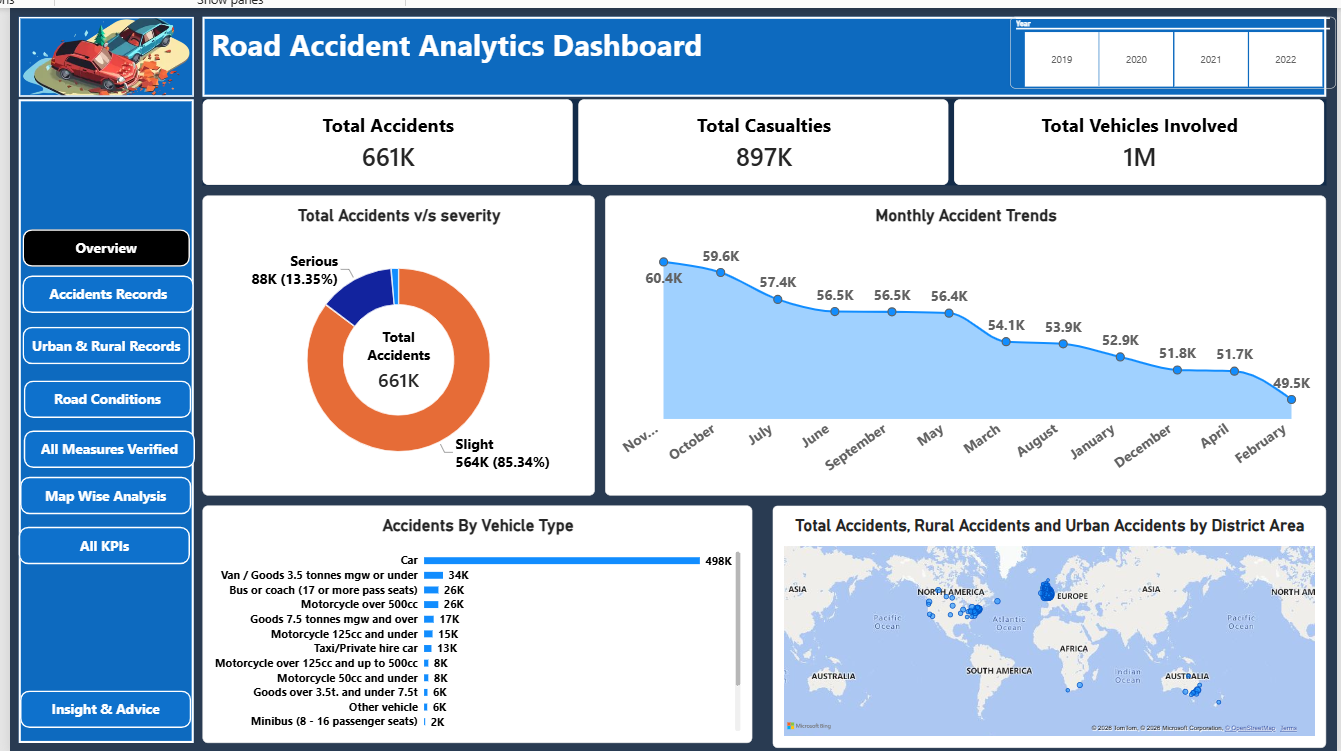

The page's visual inventory and layout, read from the dashboard file:
{"tool":"powerbi","page":{"name":"01_Dashboard","canvas":[1920,1080],"ordinal":0},"visuals":[{"type":"shape","box":[278.7,12.7,1626.9,115.8],"z":0},{"type":"textbox","box":[291.4,23.5,713,92.3],"z":1000},{"type":"cardVisual","fields":{"Data":["accident data.Total Accidents","accident data.Total Casualties","accident data.Total Vehicles Involved"]},"box":[278.7,132.1,1626.9,124.9],"z":2000},{"type":"donutChart","title":"Total Accidents v/s severity","fields":{"Category":["accident data.Accident_Severity"],"Y":["accident data.Total Accidents"]},"box":[278.7,271.4,568.2,434.3],"z":3000},{"type":"areaChart","title":"Monthly Accident Trends","fields":{"Category":["accident data.Month Name"],"Y":["accident data.Total Accidents"]},"box":[861.4,271.4,1044.2,434.3],"z":4000},{"type":"barChart","title":"Accidents By Vehicle Type","fields":{"Category":["accident data.Vehicle_Type"],"Y":["accident data.Total Accidents"]},"box":[278.7,720.2,796.3,343.8],"z":5000},{"type":"map","fields":{"Size":["accident data.Total Accidents"],"Category":["accident data.District Area"]},"box":[1103.9,720.2,801.7,351.1],"z":6000},{"type":"shape","box":[12.7,132.1,253.4,932],"z":7000},{"type":"image","box":[12.7,12.7,253.4,115.8],"z":8000},{"type":"actionButton","box":[18.1,320.3,242.5,54.3],"z":9000},{"type":"actionButton","box":[12.7,751,247.9,54.3],"z":10000},{"type":"actionButton","box":[19.9,539.3,242.5,54.3],"z":11000},{"type":"actionButton","box":[18.1,461.5,242.5,54.3],"z":12000},{"type":"actionButton","box":[18.1,387.3,247.9,54.3],"z":13000},{"type":"actionButton","box":[19.9,611.7,247.9,54.3],"z":14000},{"type":"actionButton","box":[14.5,678.6,247.9,54.3],"z":15000},{"type":"textbox","box":[1583.5,39.8,322.1,76],"z":16000},{"type":"textbox","box":[1744.5,39.8,144.8,61.5],"z":16001},{"type":"actionButton","box":[14.5,988.1,247.9,54.3],"z":16002},{"type":"slicer","fields":{"Values":["accident data.Year"]},"box":[1448,12,472,104],"z":16003}]}

Visuals, with their boxes on the page's 1920x1080 design canvas (x1, y1, x2, y2). These are canvas units, not pixel positions in the 1341x751 screenshot, which may show the page scaled, cropped or inside an application window:
shape: 279 13 1906 128
textbox: 291 24 1004 116
cardVisual - accident data.Total Accidents x accident data.Total Casualties: 279 132 1906 257
"Total Accidents v/s severity" donutChart: 279 271 847 706
"Monthly Accident Trends" areaChart: 861 271 1906 706
"Accidents By Vehicle Type" barChart: 279 720 1075 1064
map - accident data.Total Accidents x accident data.District Area: 1104 720 1906 1071
shape: 13 132 266 1064
image: 13 13 266 128
actionButton: 18 320 261 375
actionButton: 13 751 261 805
actionButton: 20 539 262 594
actionButton: 18 462 261 516
actionButton: 18 387 266 442
actionButton: 20 612 268 666
actionButton: 14 679 262 733
textbox: 1584 40 1906 116
textbox: 1744 40 1889 101
actionButton: 14 988 262 1042
slicer - accident data.Year: 1448 12 1920 116
